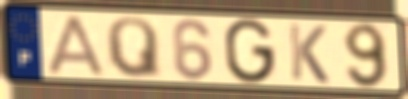6: (169, 16, 214, 83)
9: (341, 21, 391, 90)
A: (45, 13, 107, 78)
G: (223, 16, 277, 86)
K: (286, 21, 332, 86)
Q: (103, 15, 164, 81)
